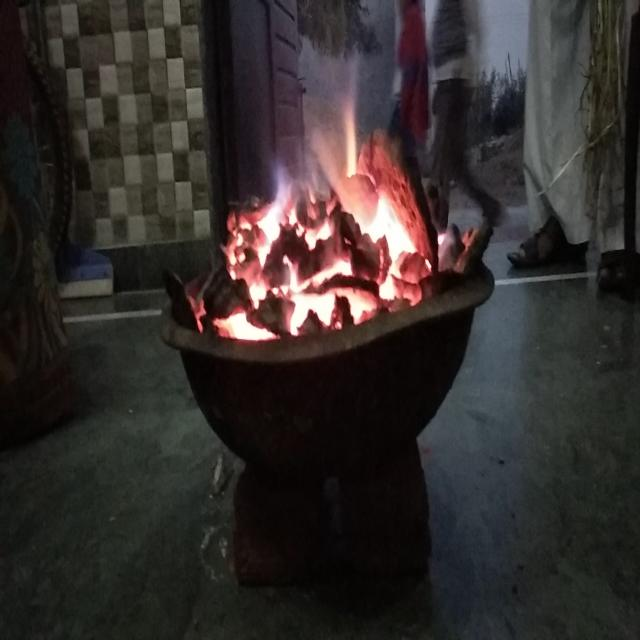fire: (237, 158, 425, 330)
